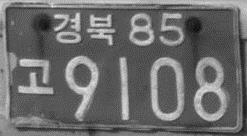0: (149, 55, 186, 122)
1: (116, 54, 132, 121)
5: (158, 12, 184, 48)
8: (192, 55, 229, 123), (127, 12, 156, 46)
9: (63, 53, 101, 121)
경북_O: (51, 11, 117, 46)
고: (16, 57, 54, 96)
